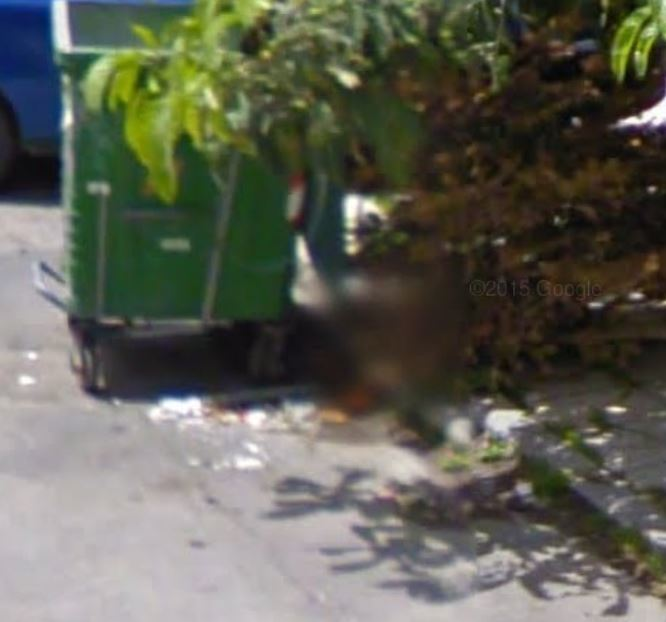trash: (159, 375, 335, 469)
